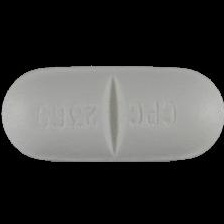68151-2195: (0, 0, 224, 224)
